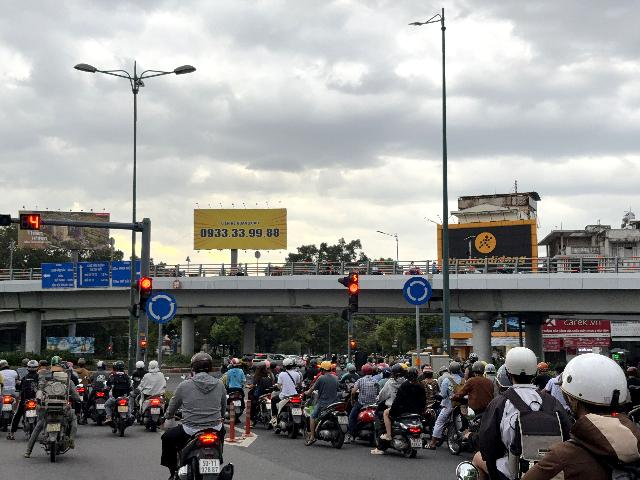noi-giao-nhau-chay-theo-vong-xuyen: (146, 291, 177, 323)
